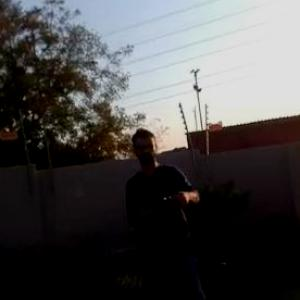follow: (124, 117, 214, 299)
